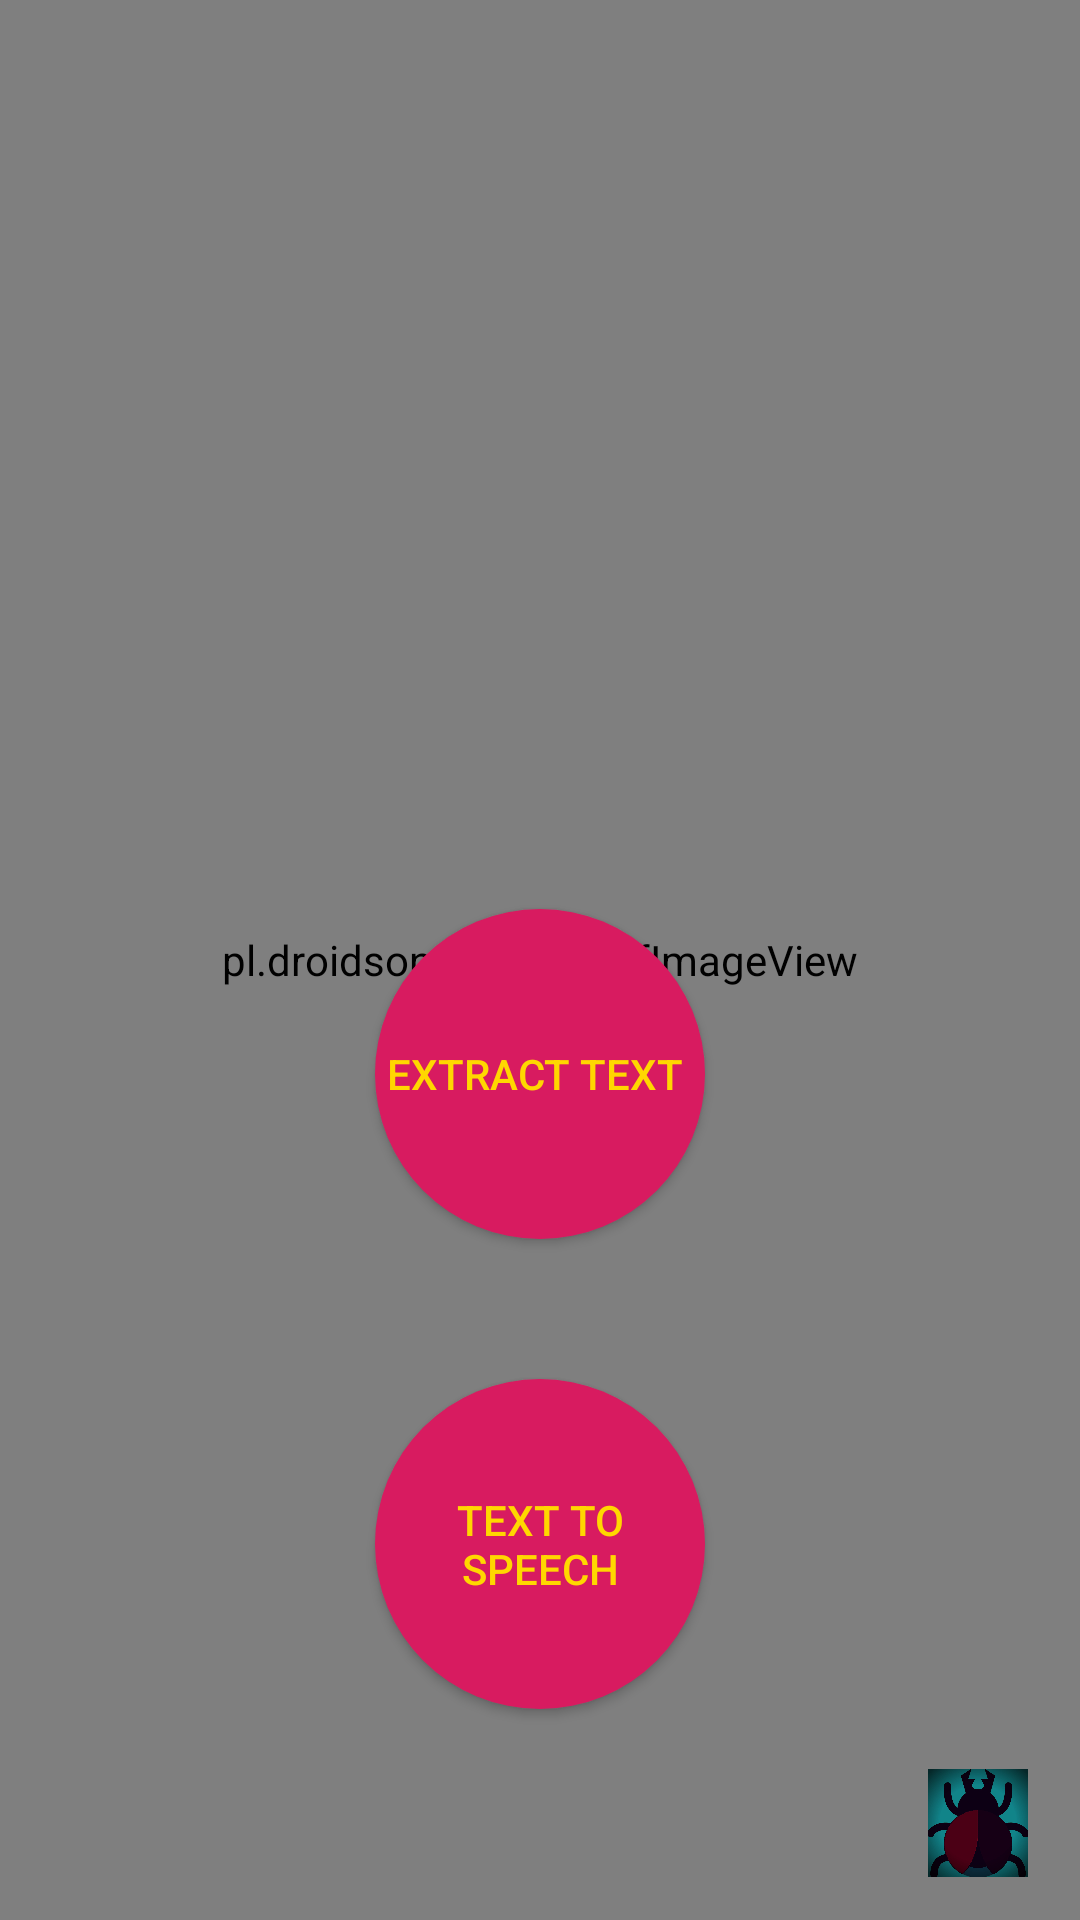

Icons on this 1080 × 1920 Android screen, each with its box as (x1, y1, x2, y2):
bug: (928, 1769, 1028, 1877)
